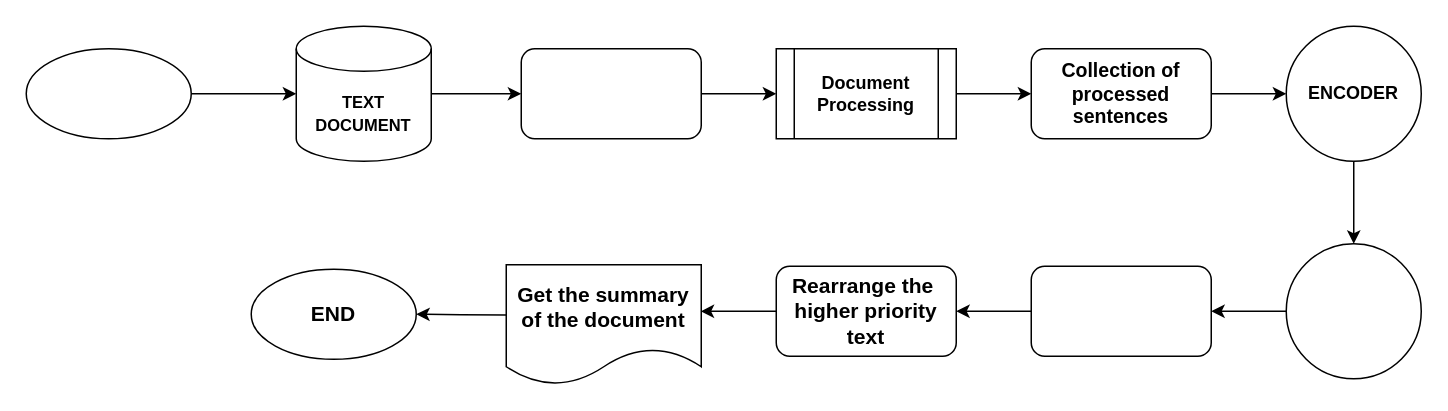
Image size: 1448x411. Some labels were removed from this diagram. The centre of each missing label's shape, as x and y in pixels:
DECODER: the point at 1353,310
Higher priority text: the point at 1120,310
Single Text Document: the point at 610,93
START: the point at 108,93
